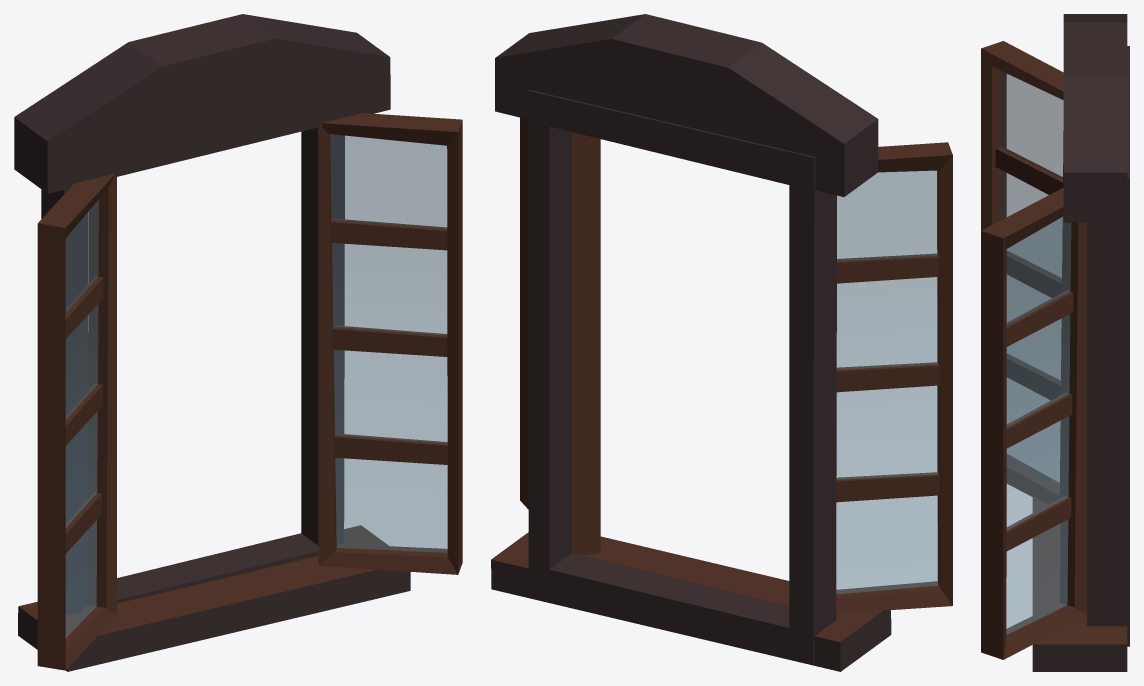
File: Window 2x4 V3 Open.glb
3 renders of one model, left to right at view 1: azimuth 30°, elevation 25°; view 2: azimuth 150°, elevation 25°; view 3: azimuth 270°, elevation 25°, orthographic. The views are drawn at different scales.
Visible parts, largest first — view 1: Window 2x4 V3 Open; view 2: Window 2x4 V3 Open; view 3: Window 2x4 V3 Open.
Boxes of the visible parts, bbox=[...] form: Window 2x4 V3 Open: bbox=[14, 14, 462, 671]; Window 2x4 V3 Open: bbox=[491, 14, 952, 671]; Window 2x4 V3 Open: bbox=[981, 14, 1129, 671].
Bounding box in the file's own units: 1.74 × 2.23 × 0.5538.
2 materials, 2 textured.
